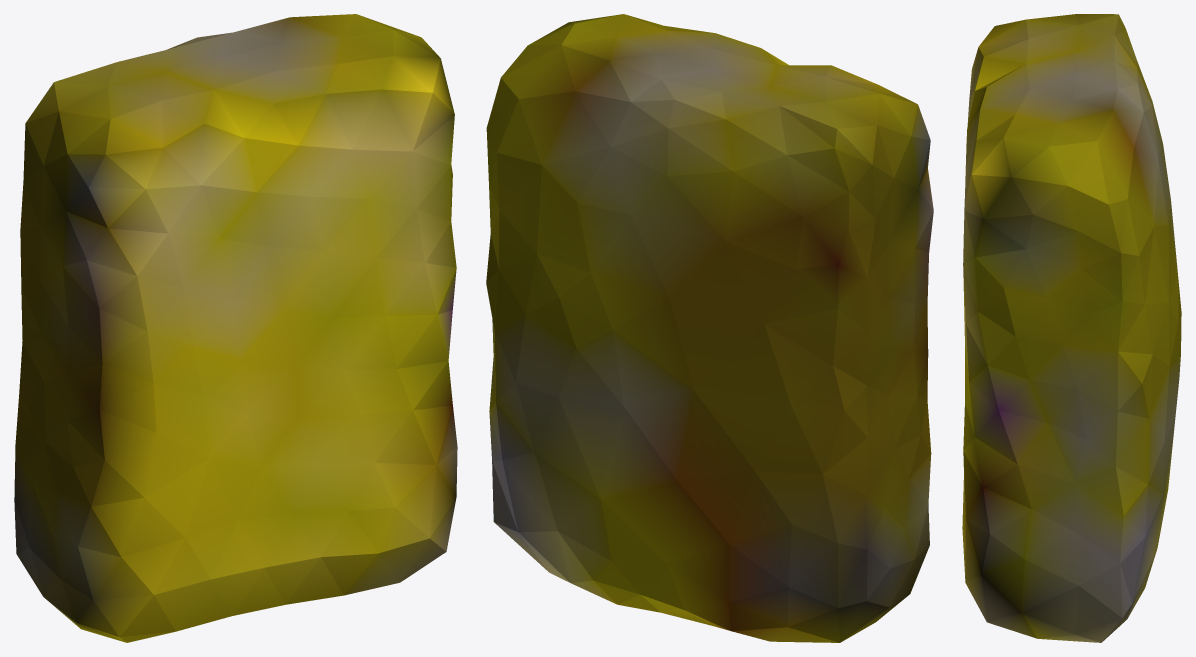
File: dhl-box-yellow.dae
3 views of the same model, side by side, from view 1: azimuth 30°, elevation 25°; view 2: azimuth 150°, elevation 25°; view 3: azimuth 270°, elevation 25° (orthographic). The views are drawn at different scales.
Parts seen in each view (by area): view 1: node; view 2: node; view 3: node.
Part boxes in pixels (x1=…): node: x1=14, y1=14, x2=457, y2=642; node: x1=486, y1=14, x2=933, y2=642; node: x1=962, y1=14, x2=1181, y2=642.
Size of the model in its own units: 0.1978 by 0.2635 by 0.1028.
